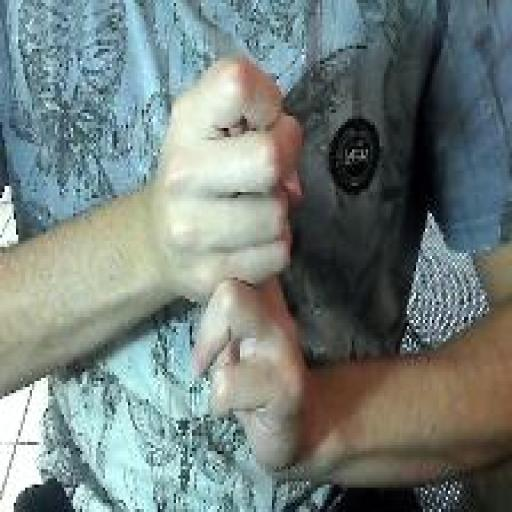Ne -rat-: (154, 50, 310, 480)
